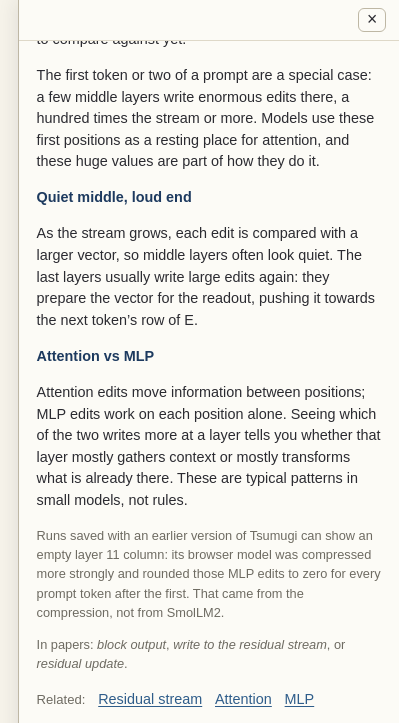
Test case: related link and Back navigate
The image size is (399, 723).
(page scrolled)
Click the button with test id "gl-related" showing "MLP". click: [299, 700]
box: top-left (285, 689), bottom-right (314, 711)
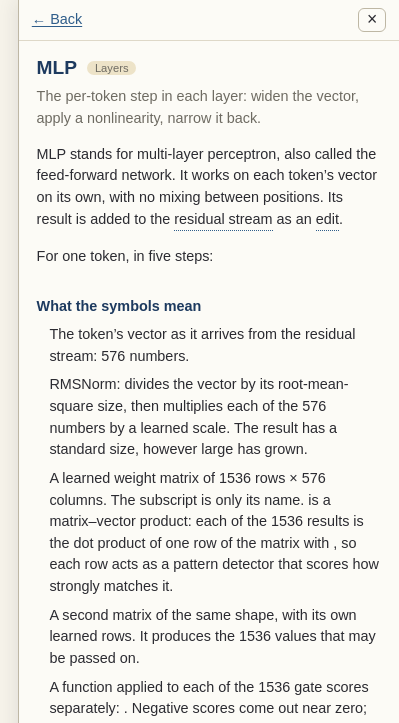
Expected: the heading with test id "gl-heading" shows "MLP", top-left (37, 57), bottom-right (77, 78)
Click the button with test id "gl-back". click: [57, 20]
box: top-left (32, 9), bottom-right (82, 31)
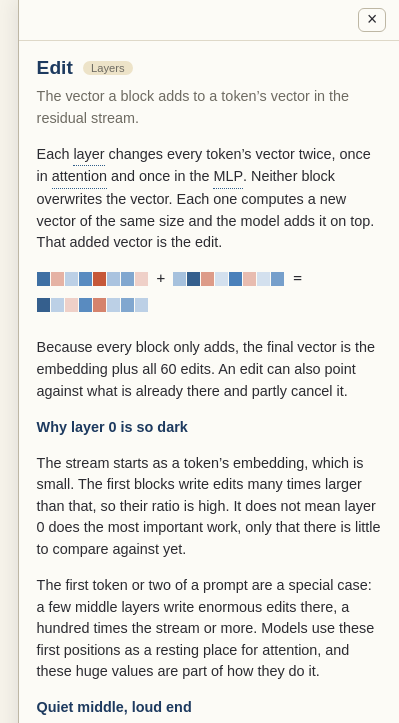
Expected: the heading with test id "gl-heading" shows "Edit", top-left (37, 57), bottom-right (73, 78)
